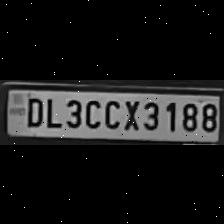1: (160, 99, 178, 131)
3: (140, 97, 160, 130), (62, 95, 82, 127)
8: (178, 98, 198, 132), (198, 98, 218, 132)
C: (101, 96, 121, 128), (82, 95, 100, 127)
D: (22, 93, 44, 126)
L: (42, 94, 62, 128)
X: (120, 96, 140, 130)
